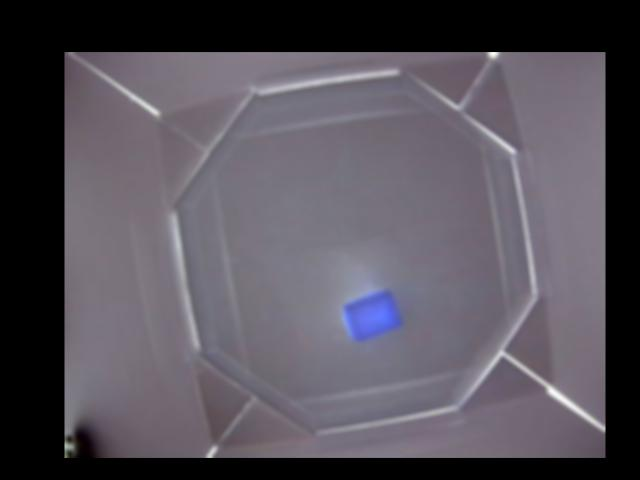Potato: (344, 289, 403, 339)
